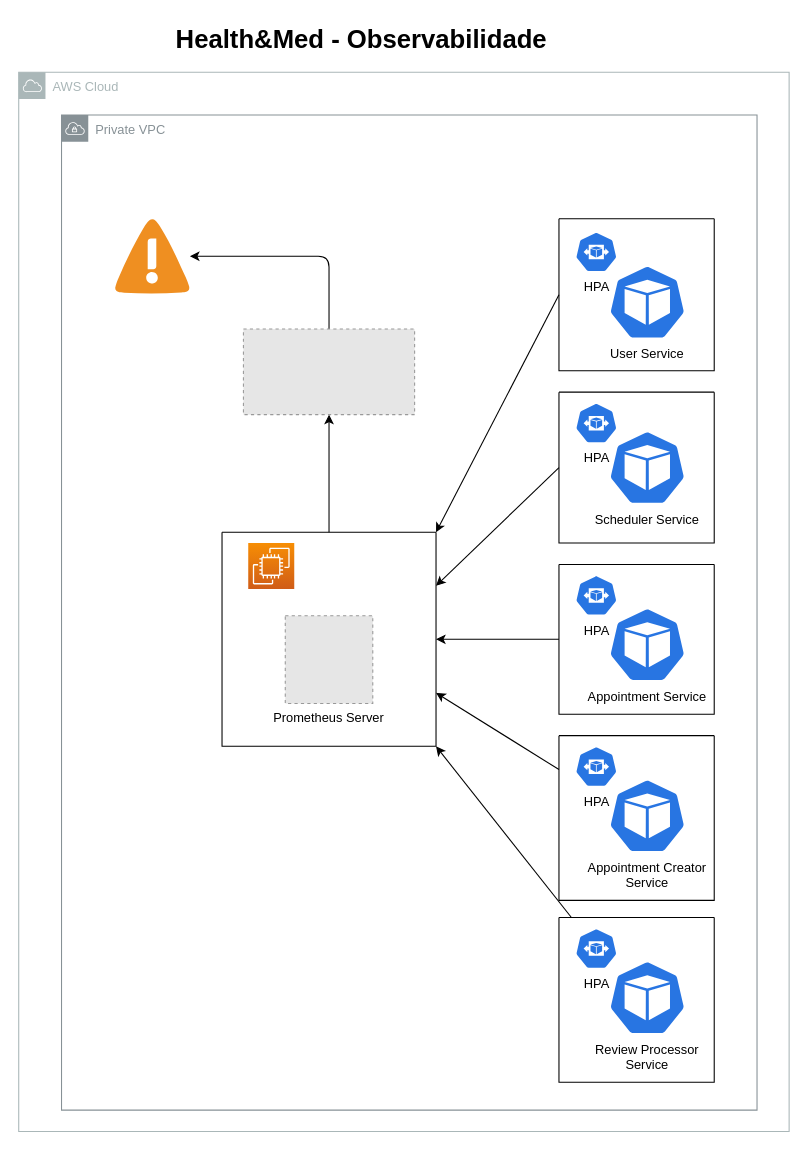
Image size: 808x1150. Some labels were removed from this diagram. Grey dashed boxes stand in for pictures. Each missing label, with the box of its shape:
Alert Manager: (114, 218, 189, 293)
EC2: (247, 542, 294, 589)
